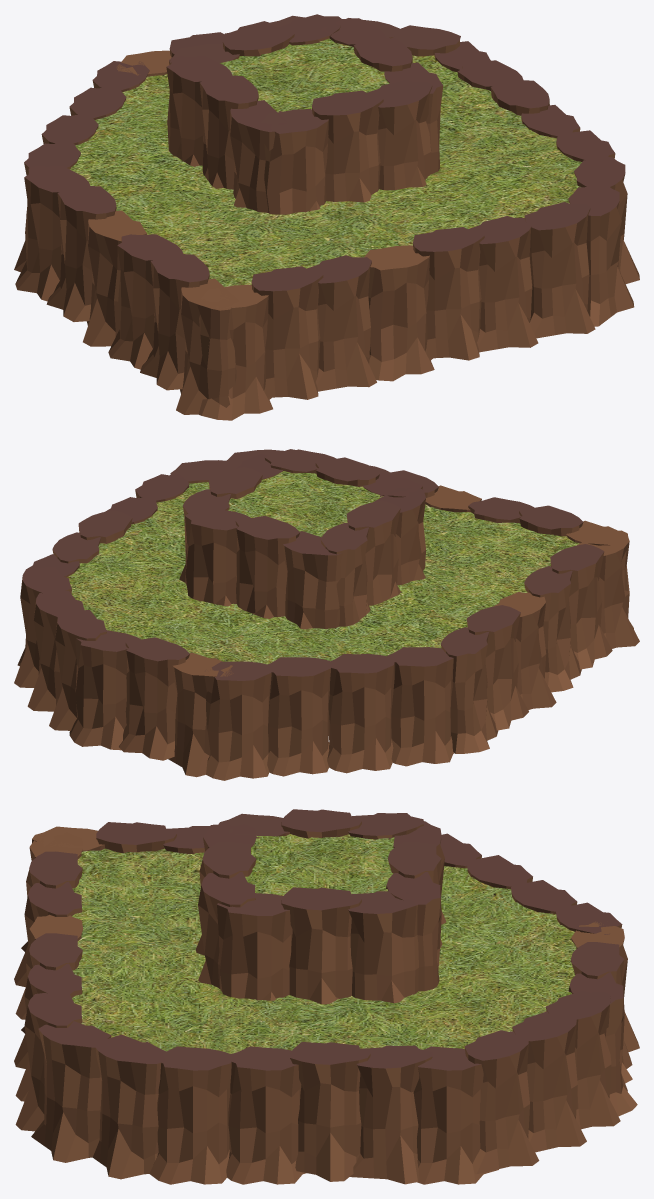
File: structure_cliff_2.fbx
The picture shows the model from 3 angles, top to bottom: view 1: azimuth 30°, elevation 25°; view 2: azimuth 150°, elevation 25°; view 3: azimuth 270°, elevation 25°; orthographic projection. The views are drawn at different scales.
Visible parts, largest first — view 1: Cylinder.008, Plane; view 2: Cylinder.008, Plane; view 3: Cylinder.008, Plane.
Boxes of the visible parts, box(x1,y1,x2,y2) form: Cylinder.008: box(14, 14, 639, 420); Plane: box(70, 38, 581, 286); Cylinder.008: box(14, 449, 639, 780); Plane: box(67, 471, 579, 664); Cylinder.008: box(14, 809, 639, 1184); Plane: box(72, 834, 576, 1053).
Size of the model in its own units: 2476 by 912 by 2563.
